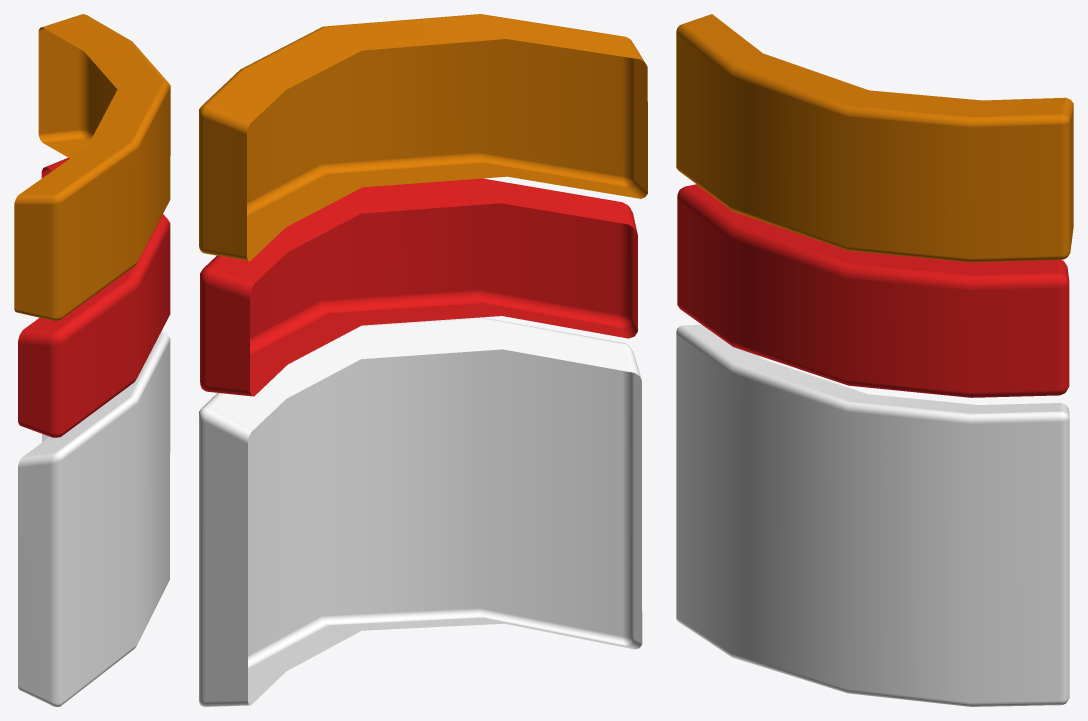
File: bus_light_v1.FBX
The picture shows the model from 3 angles, left to right: view 1: azimuth 30°, elevation 25°; view 2: azimuth 150°, elevation 25°; view 3: azimuth 270°, elevation 25°; orthographic projection. The views are drawn at different scales.
Visible parts, largest first — view 1: Group001; view 2: Group001; view 3: Group001.
Part boxes in pixels (x1,y1,x2,y2): Group001: (14, 14, 170, 706); Group001: (199, 14, 647, 706); Group001: (676, 14, 1073, 706).
Size of the model in its own units: 17.98 by 39.18 by 22.87.
